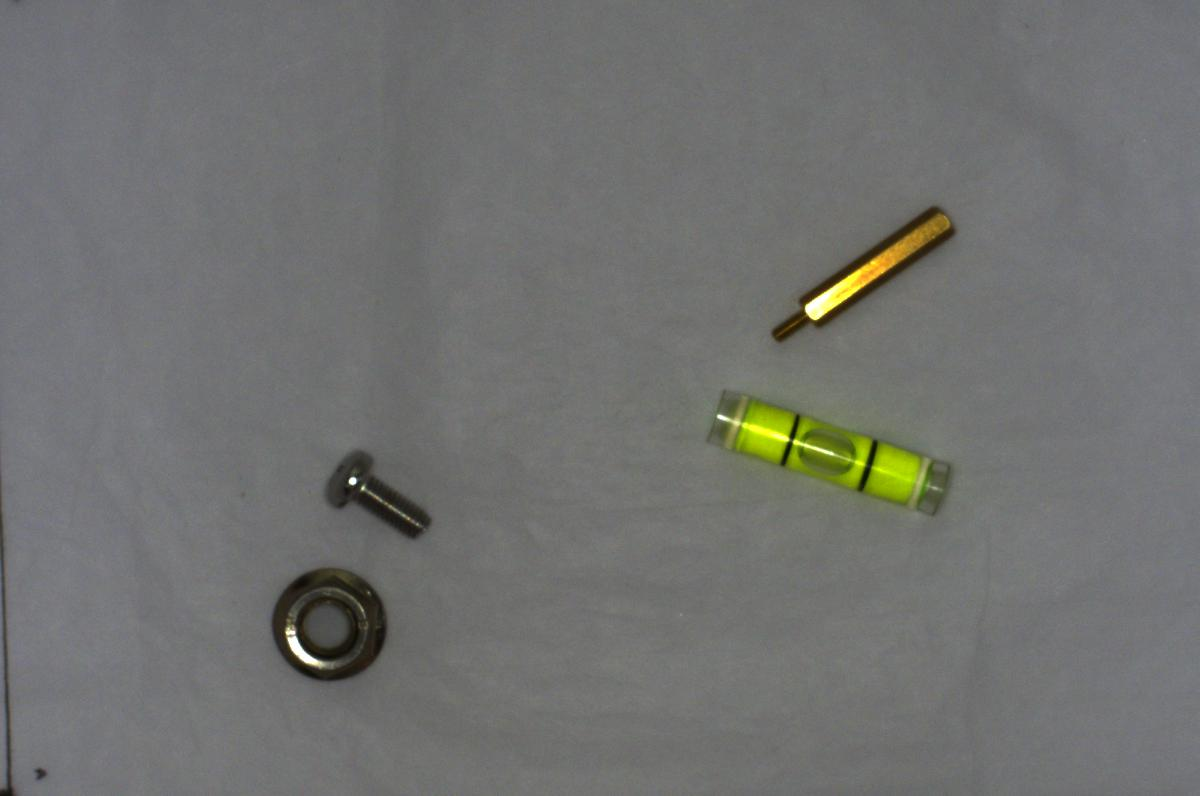Flange nut: (259, 559, 399, 686)
Hexagon pillar: (758, 199, 965, 349)
Horizontal bubble: (699, 378, 954, 526)
Round head screw: (322, 442, 438, 545)
